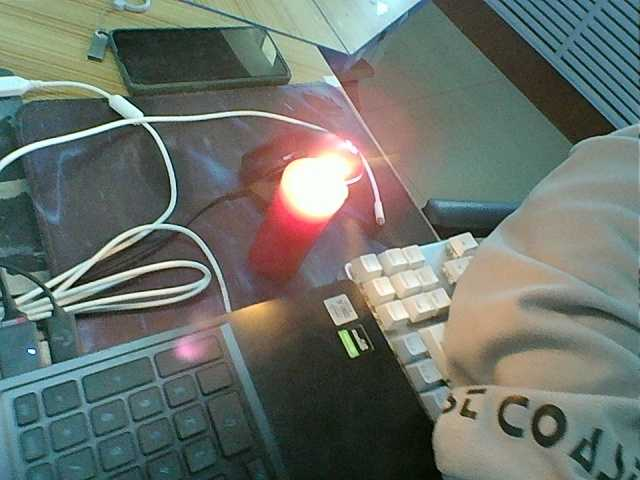candle: (234, 167, 340, 288)
fire: (281, 145, 361, 214)
